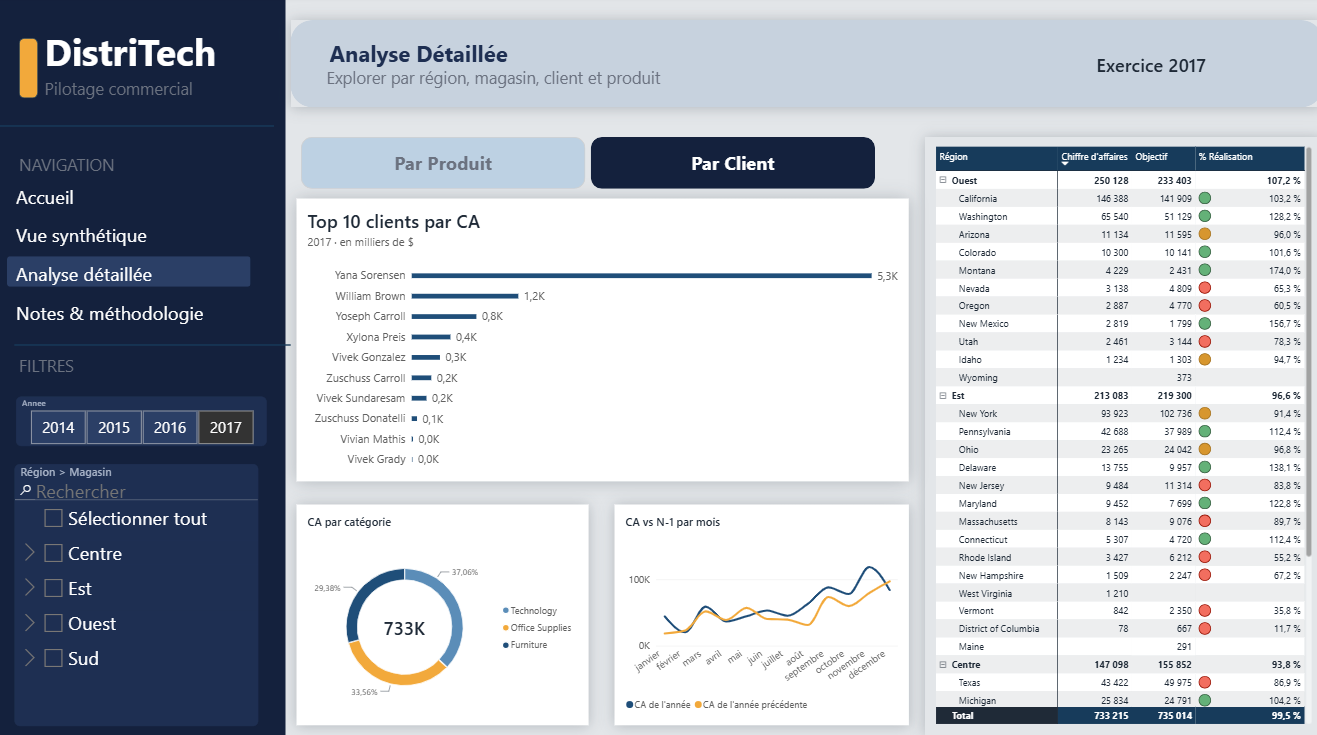

Layout of this report page (visuals, bound fields, positions):
{"tool":"powerbi","page":{"name":"Analyse détaillée","canvas":[1920,1080],"ordinal":2},"visuals":[{"type":"shape","box":[0,0,416.7,1080],"z":0,"group":"g1"},{"type":"group","id":"g1","title":" Barre latérale","box":[0,0,423.3,1080],"z":1000},{"type":"shape","box":[423.3,30,1496.7,126.7],"z":1500},{"type":"textbox","box":[66.7,40,296.7,93.3],"z":2000,"group":"g1"},{"type":"textbox","box":[476.1,98.9,582,43],"z":2000},{"type":"textbox","box":[481.1,55.9,360,50],"z":3000},{"type":"textbox","box":[67.5,112.5,265,42.5],"z":3000,"group":"g1"},{"type":"shape","box":[30.7,55.9,27.4,87.4],"z":4000,"group":"g1"},{"type":"slicer","fields":{"Values":["Dim_Magasins.Region","Dim_Magasins.Etat"]},"box":[23.3,673.3,353.3,380],"z":4000},{"type":"shape","box":[0,156.2,400,55.1],"z":5000,"group":"g1"},{"type":"textbox","box":[30,223.3,153.3,33.3],"z":6000,"group":"g1"},{"type":"clusteredBarChart","title":"Top 10 produits par CA","fields":{"Category":["Dim_Produits.Nom_Produit"],"Y":["_Mesures.CA_Total"]},"box":[432.5,307.5,887.5,402.5],"z":6000},{"type":"bookmarkNavigator","box":[440,200,832.5,75],"z":7000},{"type":"pageNavigator","box":[13.3,260,353.3,213.3],"z":7000,"group":"g1"},{"type":"pivotTable","fields":{"Rows":["Dim_Magasins.Region","Dim_Magasins.Etat"],"Values":["_Mesures.CA_Total","_Mesures.Objectif_CA_Total","_Mesures.Pct_Realisation"]},"box":[1343.3,200,576.7,866.7],"z":8000},{"type":"textbox","box":[30.7,516,160,42.5],"z":8000,"group":"g1"},{"type":"slicer","fields":{"Values":["Dim_Date.Annee"]},"box":[26.7,576.7,363.3,72],"z":9000,"group":"g1"},{"type":"donutChart","title":"CA par catégorie","fields":{"Category":["Dim_Produits.Categorie"],"Y":["_Mesures.CA_Total"]},"box":[433.3,733.3,423.3,320],"z":9000},{"type":"shape","box":[23.3,473.3,400,55.1],"z":10000,"group":"g1"},{"type":"lineChart","title":"CA vs N-1 par mois","fields":{"Category":["Dim_Date.Mois"],"Y":["_Mesures.CA_Total","_Mesures.CA_N_1"]},"box":[893.3,733.3,426.7,320],"z":10000},{"type":"cardVisual","fields":{"Data":["_Mesures.Contexte_Filtres"]},"box":[1576.7,56.7,226.7,76.7],"z":11000}]}

Visuals, with their boxes on the page's 1920x1080 design canvas (x1, y1, x2, y2). These are canvas units, not pixel positions in the 1317x735 screenshot, which may show the page scaled, cropped or inside an application window:
shape: 0/0/417/1080
" Barre latérale" group: 0/0/423/1080
shape: 423/30/1920/157
textbox: 67/40/363/133
textbox: 476/99/1058/142
textbox: 481/56/841/106
textbox: 68/112/332/155
shape: 31/56/58/143
slicer - Dim_Magasins.Region x Dim_Magasins.Etat: 23/673/377/1053
shape: 0/156/400/211
textbox: 30/223/183/257
"Top 10 produits par CA" clusteredBarChart: 432/308/1320/710
bookmarkNavigator: 440/200/1272/275
pageNavigator: 13/260/367/473
pivotTable - Dim_Magasins.Region x Dim_Magasins.Etat: 1343/200/1920/1067
textbox: 31/516/191/558
slicer - Dim_Date.Annee: 27/577/390/649
"CA par catégorie" donutChart: 433/733/857/1053
shape: 23/473/423/528
"CA vs N-1 par mois" lineChart: 893/733/1320/1053
cardVisual - _Mesures.Contexte_Filtres: 1577/57/1803/133
